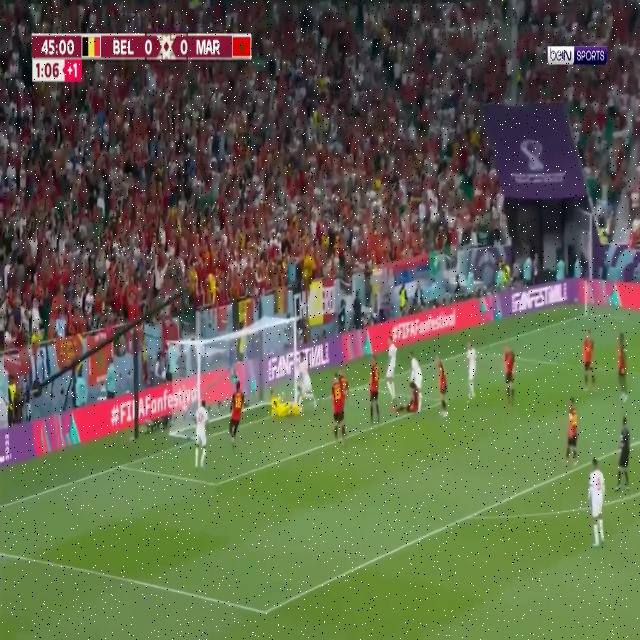GoalKeeper: (267, 391, 303, 417)
Referee: (616, 417, 630, 497)
TEAM 1: (564, 394, 580, 470), (228, 382, 246, 449), (433, 350, 451, 417), (331, 373, 347, 447), (617, 330, 630, 408), (583, 327, 598, 389), (505, 344, 519, 408), (393, 379, 417, 416), (370, 356, 380, 428), (338, 366, 347, 397)
TEAM 2: (585, 452, 610, 549), (294, 349, 318, 413), (194, 398, 209, 473), (384, 336, 399, 400), (409, 352, 423, 412), (466, 343, 479, 402)
